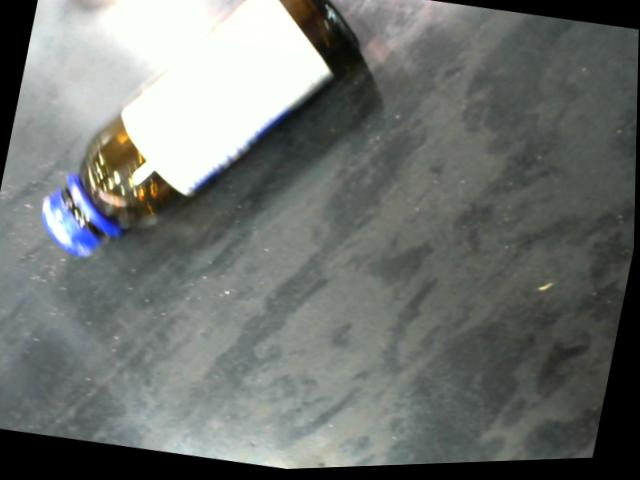can: (32, 0, 366, 268)
